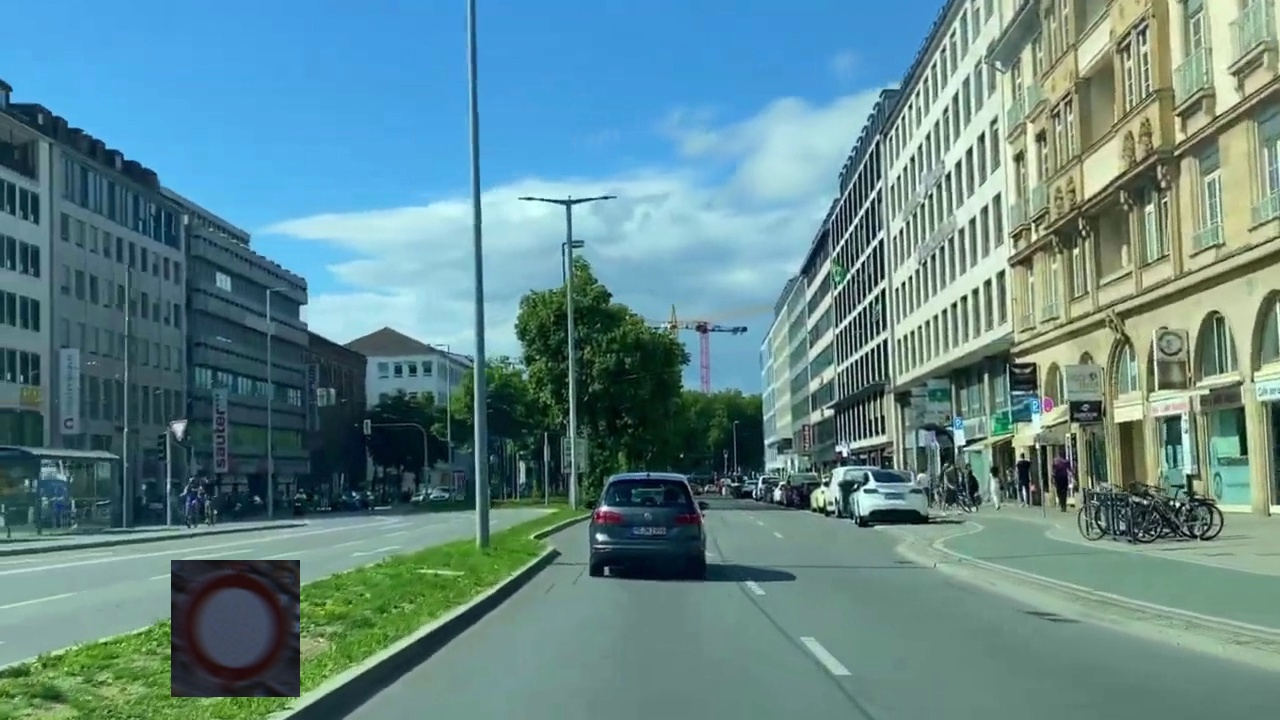No vehicles: (171, 560, 300, 697)
